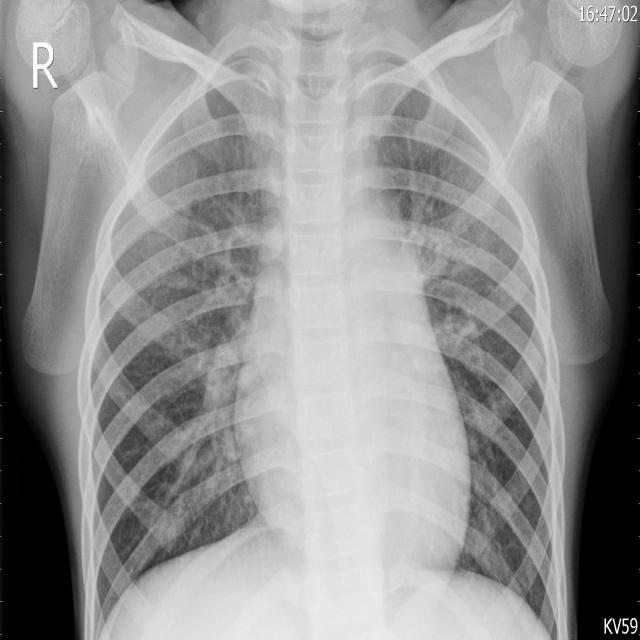no-pneumonia: (370, 88, 565, 639), (80, 108, 278, 638)
